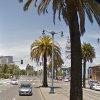Palm tree: (29, 22, 60, 87)
